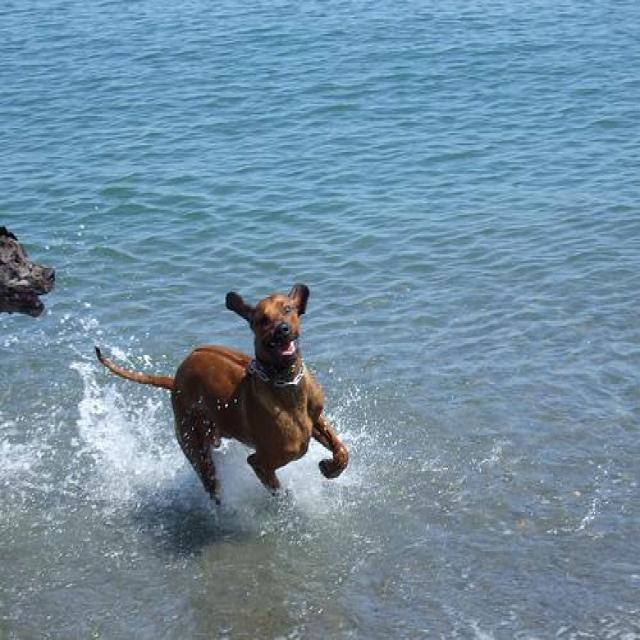rhodesian_ridgeback: (94, 278, 348, 508)
